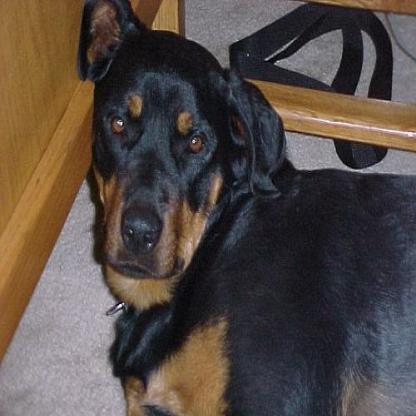Rottweiler: (75, 0, 414, 414)
